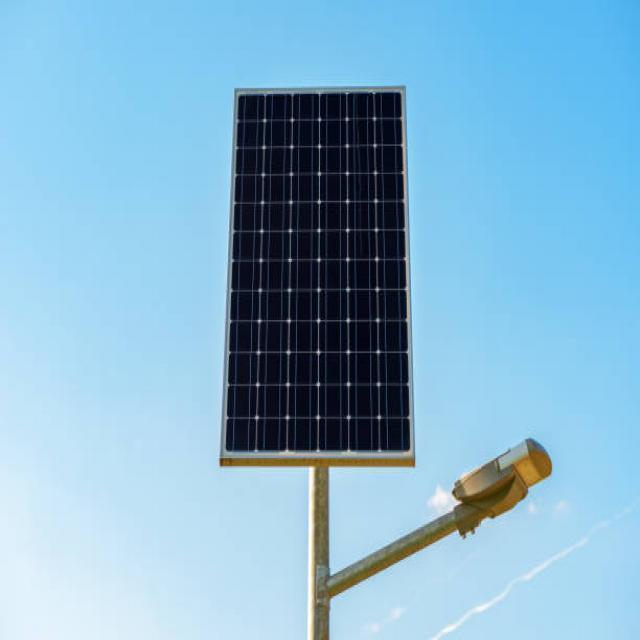Normal Solar Panel: (221, 88, 412, 461)
